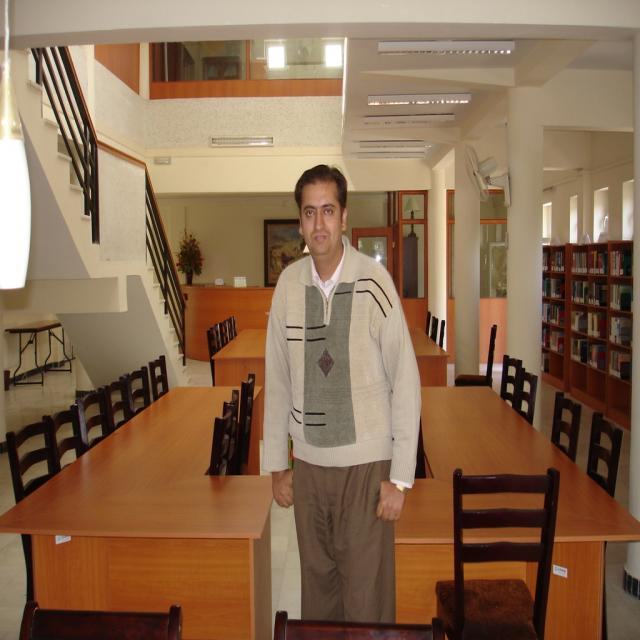chair: (2, 411, 184, 640), (436, 468, 560, 640), (19, 606, 184, 640), (455, 325, 498, 388), (500, 355, 539, 424), (550, 391, 582, 464), (78, 383, 114, 447), (102, 377, 134, 434), (123, 367, 151, 418), (148, 355, 170, 403)
desk: (18, 358, 290, 638)
person: (263, 163, 421, 625)
